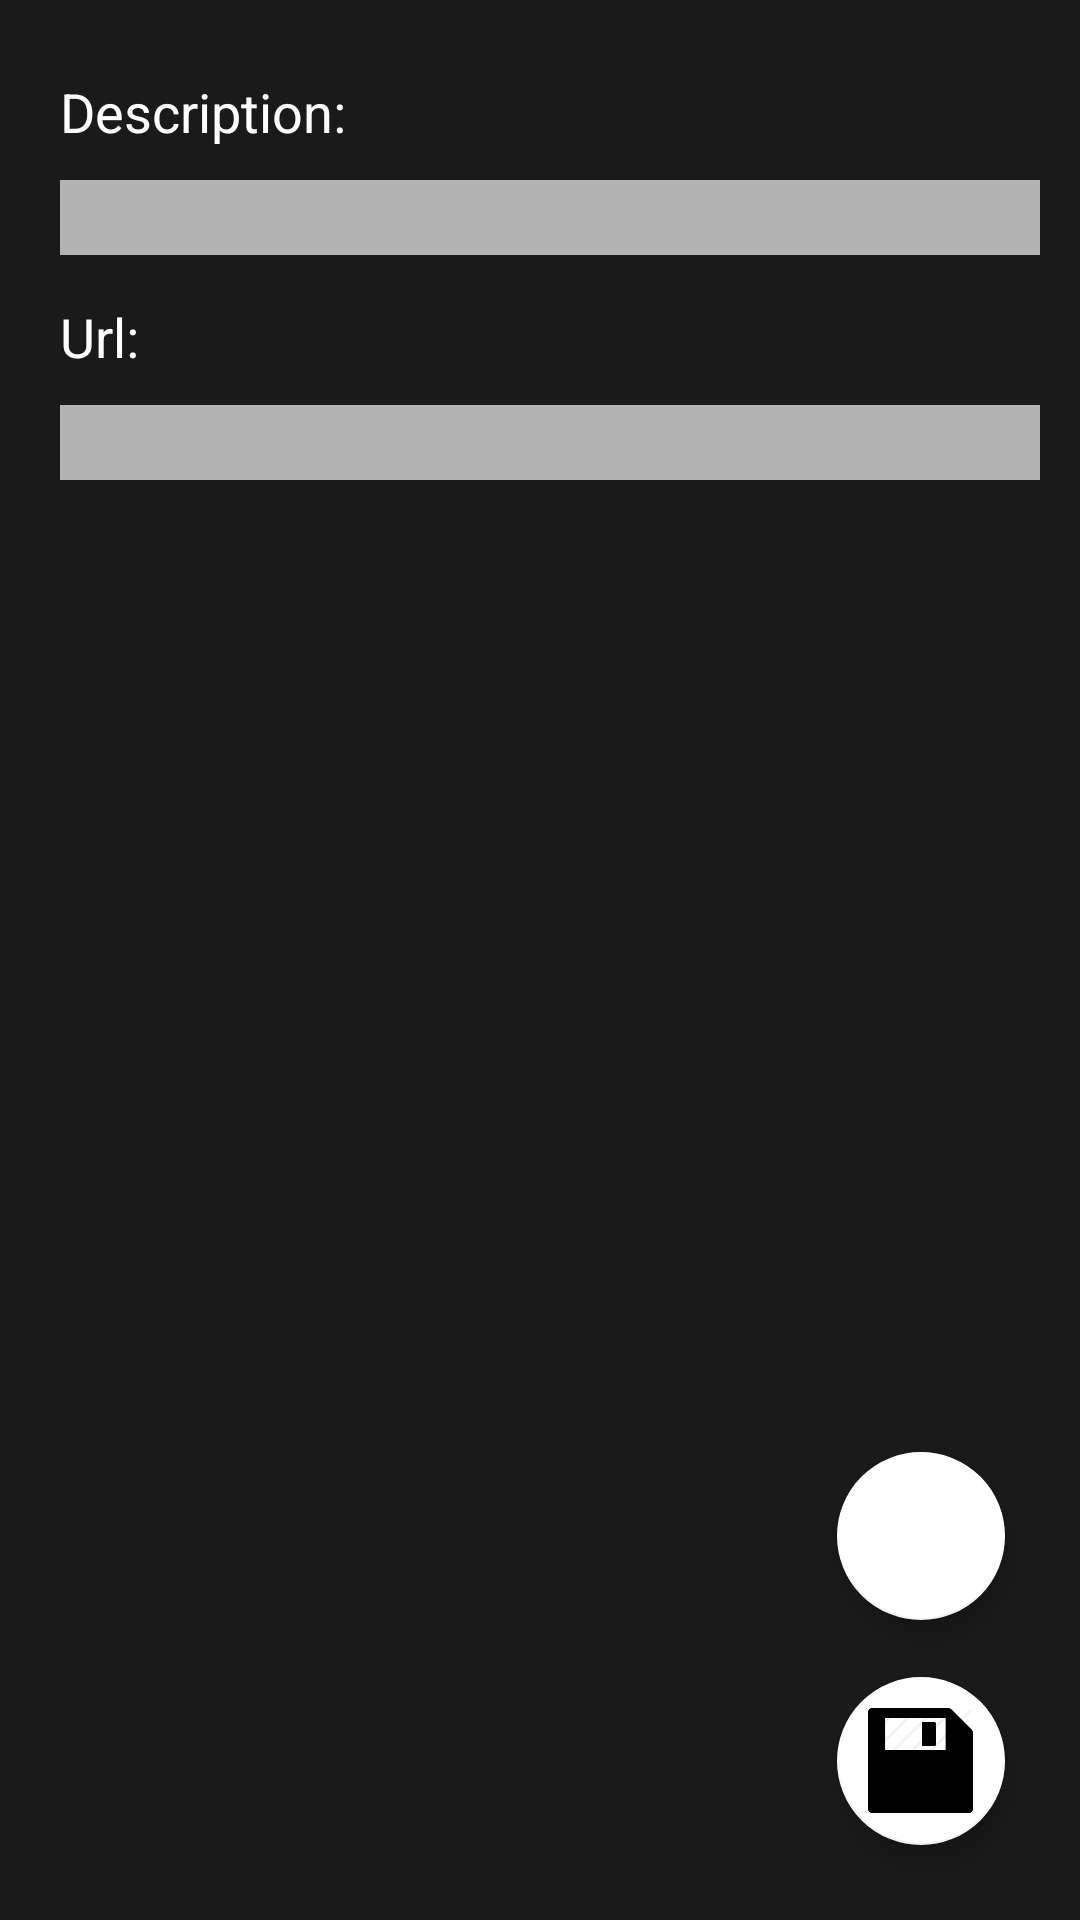

Named icons in this screenshot (1080 x 1920) and their centers, [x,y]:
save: [921,1761]
